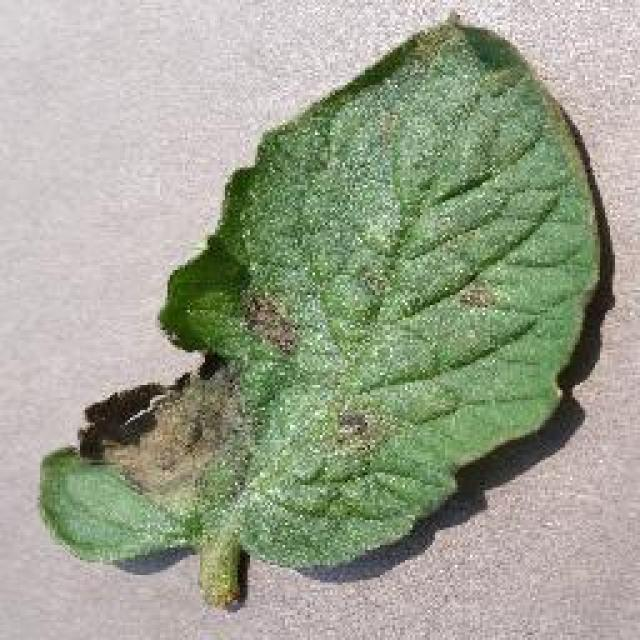leaf blight: (35, 24, 611, 605)
